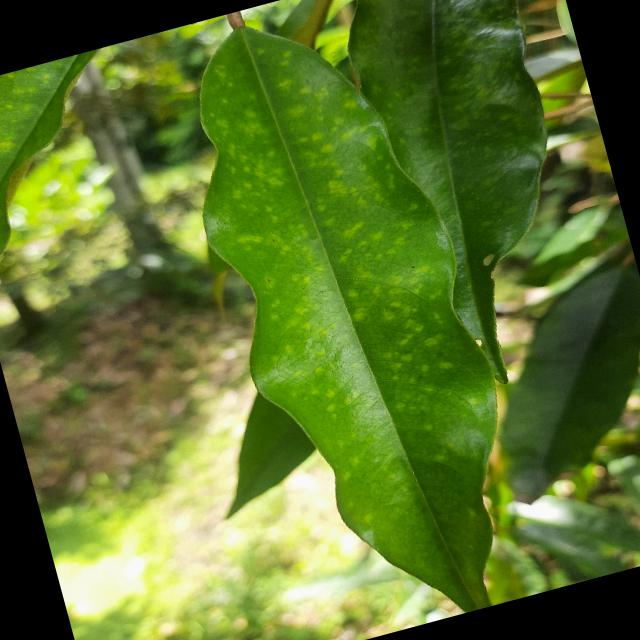Leaf Spot: (147, 0, 568, 639)
